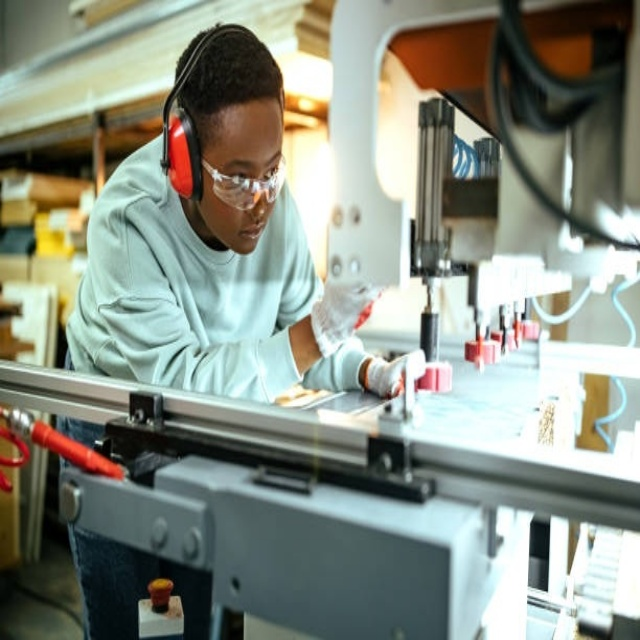Gafas: (200, 149, 287, 212)
Guantes: (310, 278, 386, 356), (361, 349, 427, 399)
Sin_mascara: (231, 216, 267, 256)
